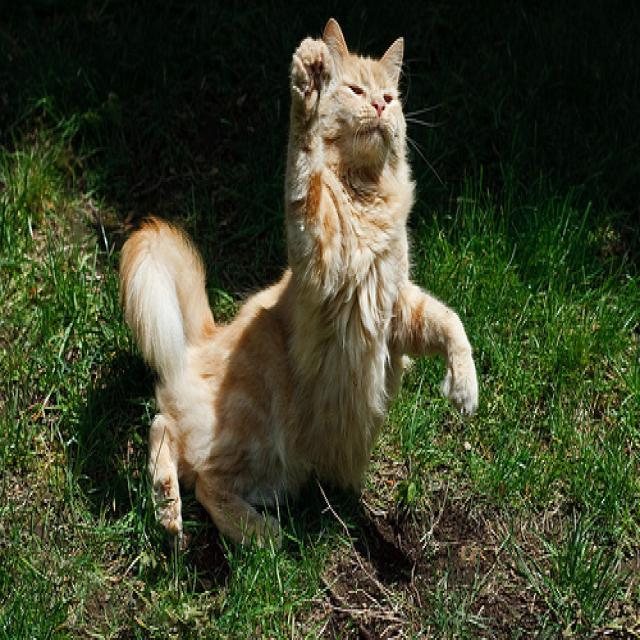Maine_Coon: (318, 17, 404, 162)
